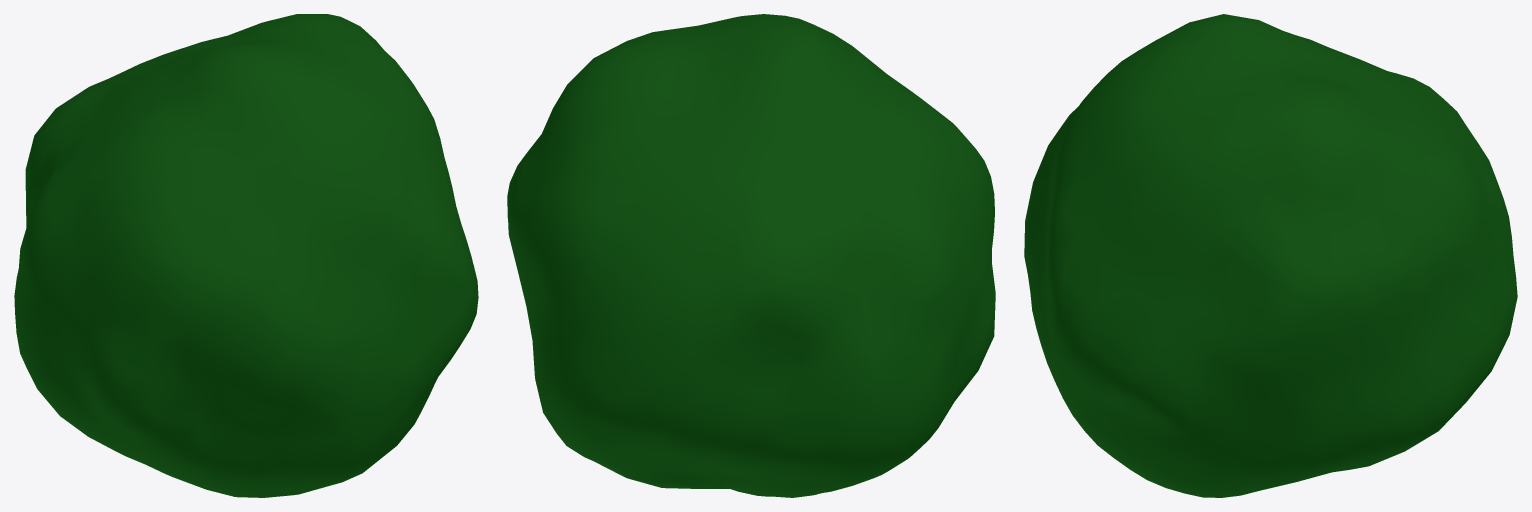
File: foliage_ball.gltf
The picture shows the model from 3 angles, left to right: view 1: azimuth 30°, elevation 25°; view 2: azimuth 150°, elevation 25°; view 3: azimuth 270°, elevation 25°; orthographic projection. The views are drawn at different scales.
Visible parts, largest first — view 1: Icosphere; view 2: Icosphere; view 3: Icosphere.
Part boxes in pixels (x1,y1,x2,y2): Icosphere: [14, 14, 478, 497]; Icosphere: [507, 14, 995, 497]; Icosphere: [1024, 14, 1517, 497].
Size of the model in its own units: 2.78 by 2.89 by 2.85.
